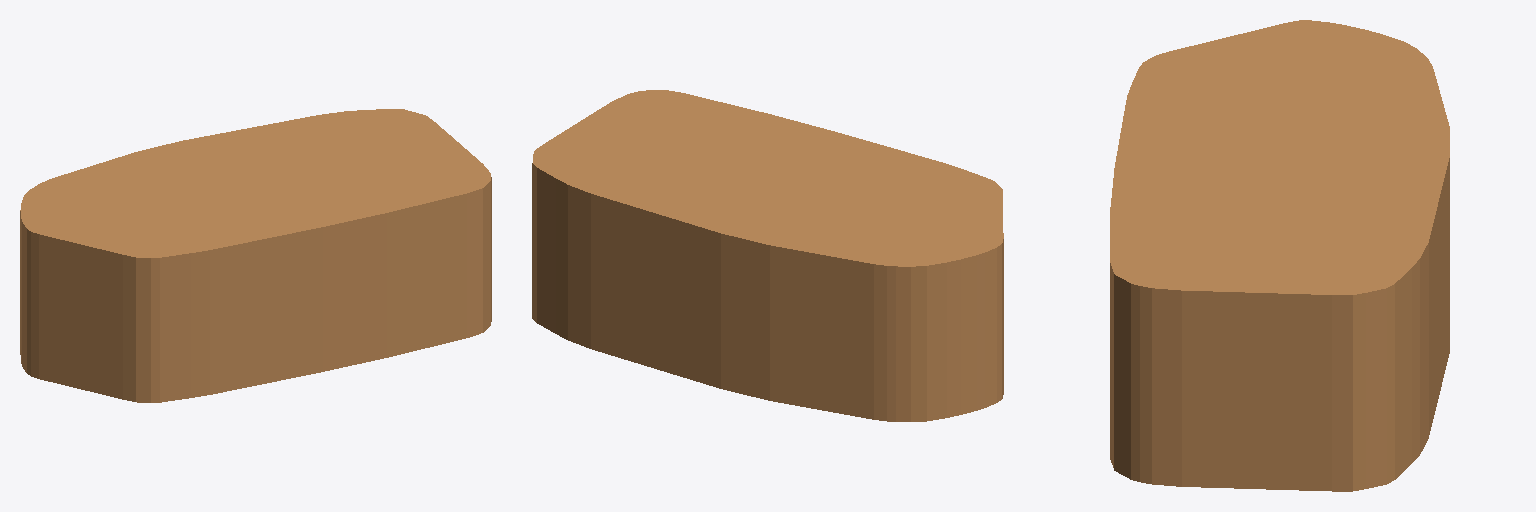
robot.urdf — bread:
<?xml version="1.0"?>
<robot name="bread">
  <material name="obj_color">
    <color rgba="0.8 0.6 0.4 1.0"/>
  </material>
  <link name="base">
    <inertial>
      <origin xyz="0 0 0" rpy="0 0 0"/>
      <mass value="0.1"/>
      <inertia ixx="0.001" ixy="0" ixz="0" iyy="0.001" iyz="0" izz="0.001"/>
    </inertial>
    <visual>
      <origin xyz="0 0 0" rpy="0 0 0"/>
      <geometry><mesh filename="scan.obj" scale="1 1 1"/></geometry>
      <material name="obj_color"/>
    </visual>
    <collision>
      <origin xyz="0 0 0" rpy="0 0 0"/>
      <geometry><mesh filename="scan.obj" scale="1 1 1"/></geometry>
    </collision>
  </link>
</robot>

--- What the picture shows (computed from the rendered views, not written in the file) ---
Views: 3 orthographic renders of the robot side by side, from view 1: azimuth 30°, elevation 25°; view 2: azimuth 150°, elevation 25°; view 3: azimuth 270°, elevation 25°.
Model bread with 1 links and 0 joints (none), rooted at base, posed every joint at zero.
Visible links, largest first — view 1: base; view 2: base; view 3: base.
Boxes of the visible links, bbox=[...] form: base: bbox=[20, 109, 491, 402]; base: bbox=[532, 90, 1003, 421]; base: bbox=[1110, 20, 1449, 491].
Bounding box of the posed robot: 0.12 × 0.0627 × 0.04 m (x, y, z).
Meshes: 1 distinct files referenced, 1 mesh visuals loaded (1 OBJ).
